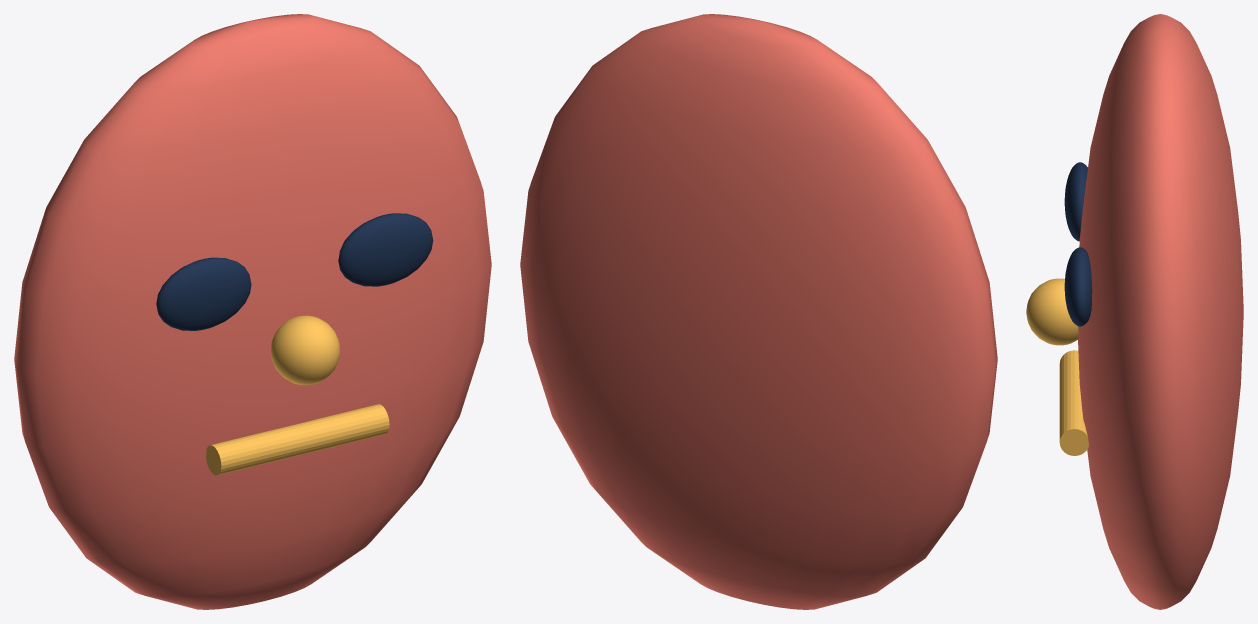
File: EDU004.glb
3 views of the same model, side by side, from view 1: azimuth 30°, elevation 25°; view 2: azimuth 150°, elevation 25°; view 3: azimuth 270°, elevation 25° (orthographic). The views are drawn at different scales.
Visible parts, largest first — view 1: Face, Mouth, Stylized_eye, Stylized_eye.001, Nose; view 2: Face; view 3: Face, Nose, Mouth, Stylized_eye.001, Stylized_eye.
Part boxes in pixels (<box>): Face: <box>14,14,491,609</box>; Mouth: <box>206,404,389,475</box>; Stylized_eye: <box>156,257,251,330</box>; Stylized_eye.001: <box>338,213,433,286</box>; Nose: <box>270,315,340,385</box>; Face: <box>520,14,997,609</box>; Face: <box>1078,14,1243,609</box>; Nose: <box>1026,278,1078,345</box>; Mouth: <box>1059,350,1088,455</box>; Stylized_eye.001: <box>1064,247,1092,326</box>; Stylized_eye: <box>1064,162,1087,241</box>.
Size of the model in its own units: 1.4 by 1.65 by 0.584.
